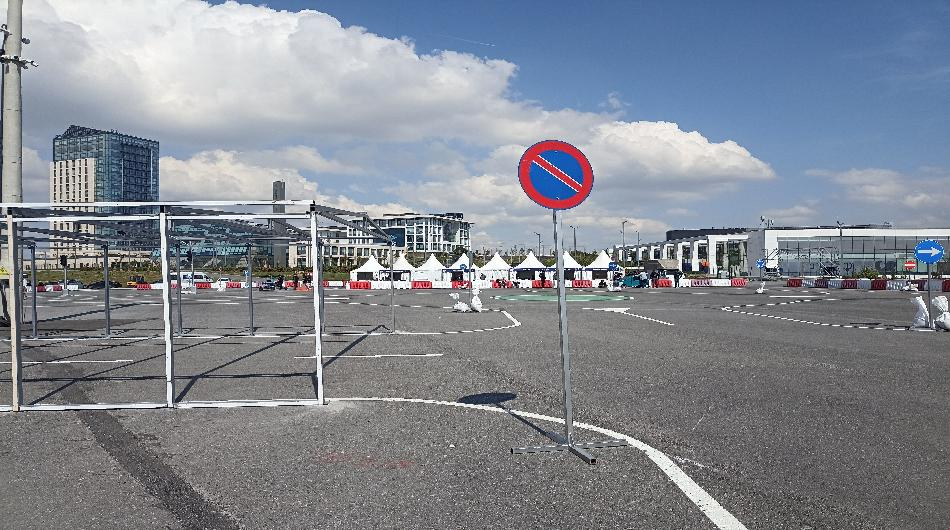park_yapilmaz_1: (520, 139, 595, 210)
saga_mecburi_1: (915, 237, 945, 267)
